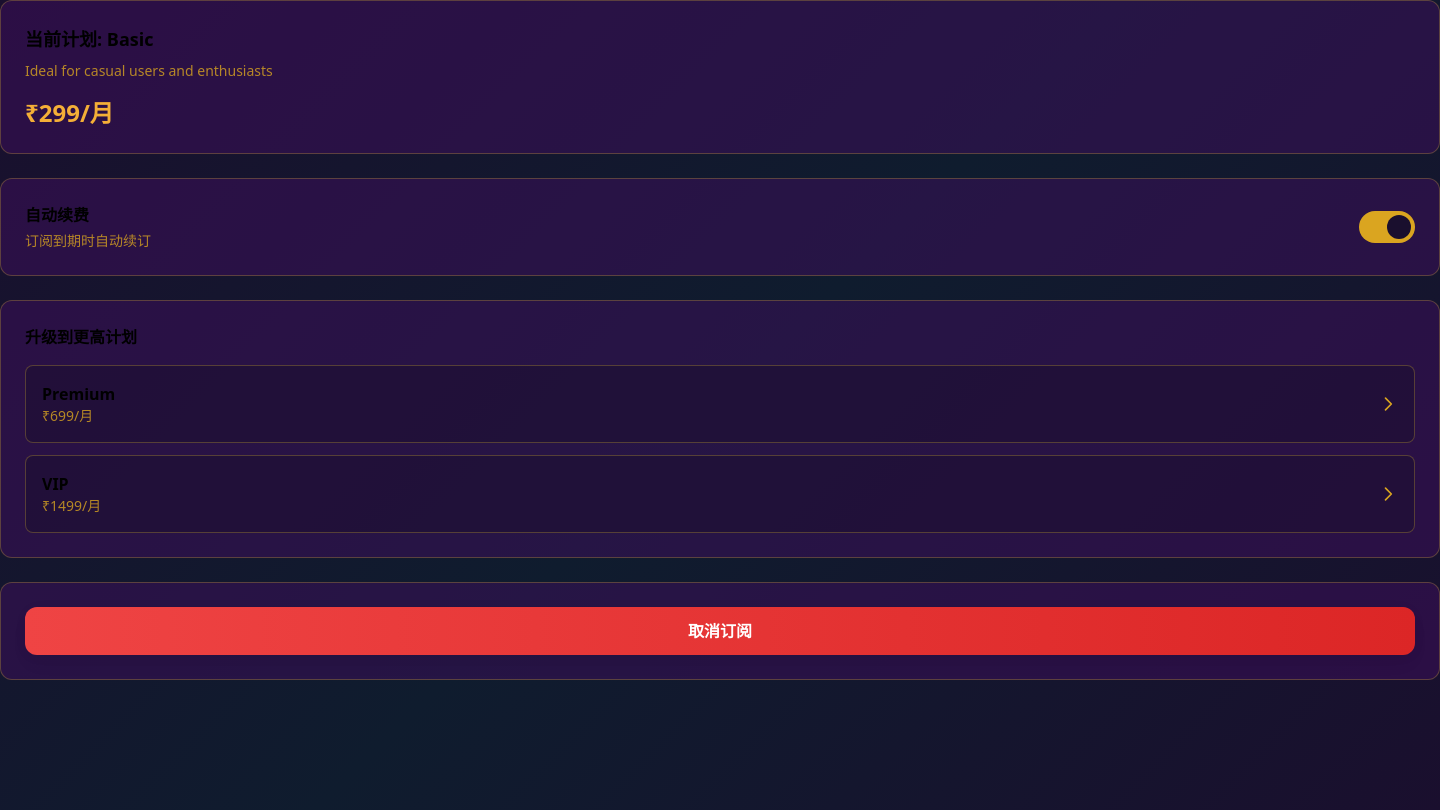
Test: SubscriptionActions › opens upgrade modal when clicking upgrade option
Step 1. Click the button "Premium ₹699/月" → (79, 394), box [25,365,1415,443]
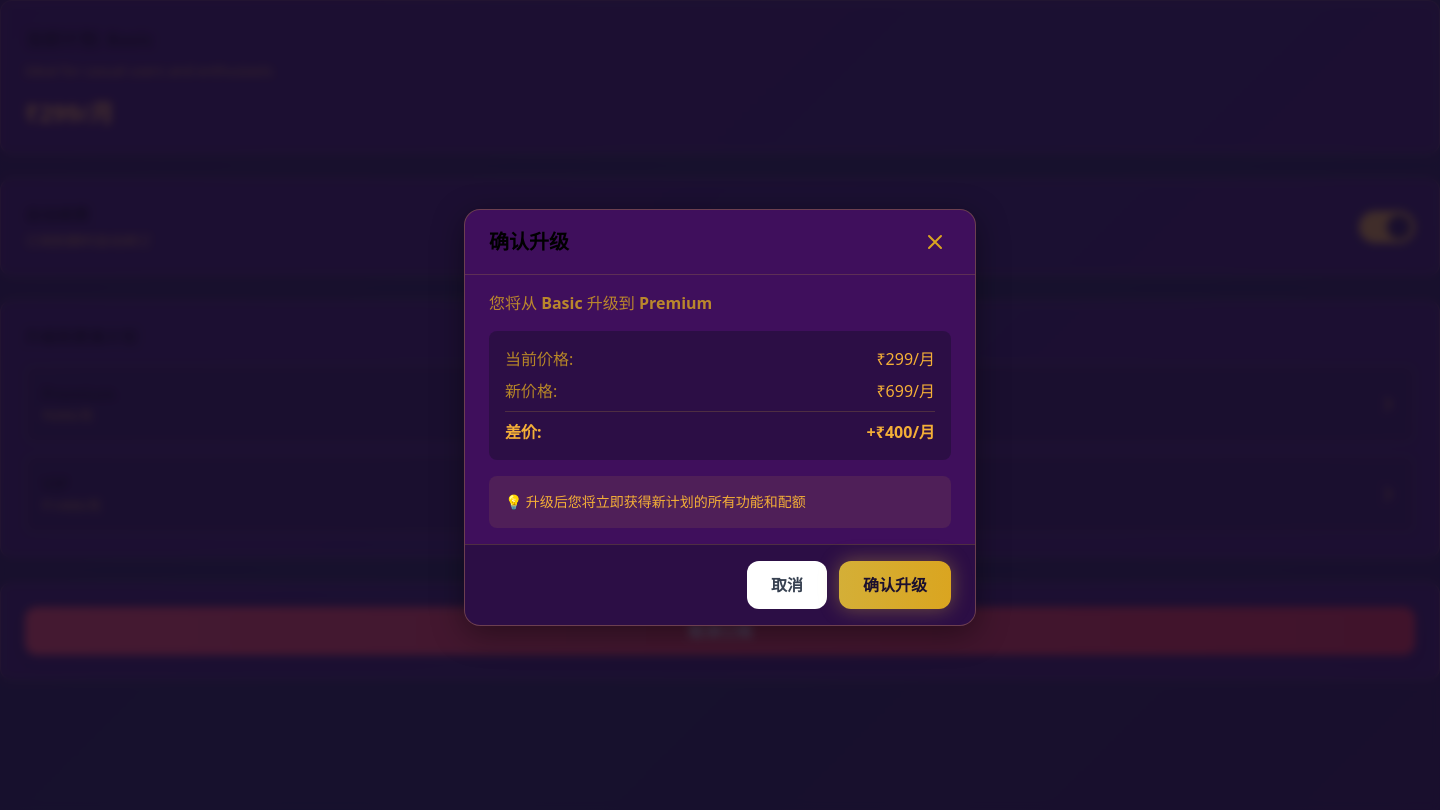
Now the heading "确认升级" is shown, box [489,228,569,256]
Now the text "当前价格:" is shown, box [505,346,573,370]
Now the text "新价格:" is shown, box [505,378,557,402]
